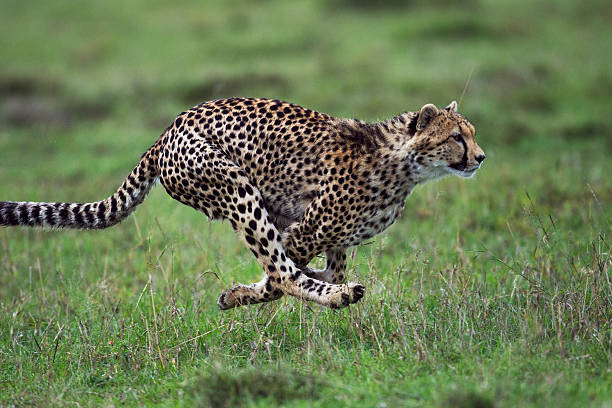cheetah: (398, 97, 494, 187)
